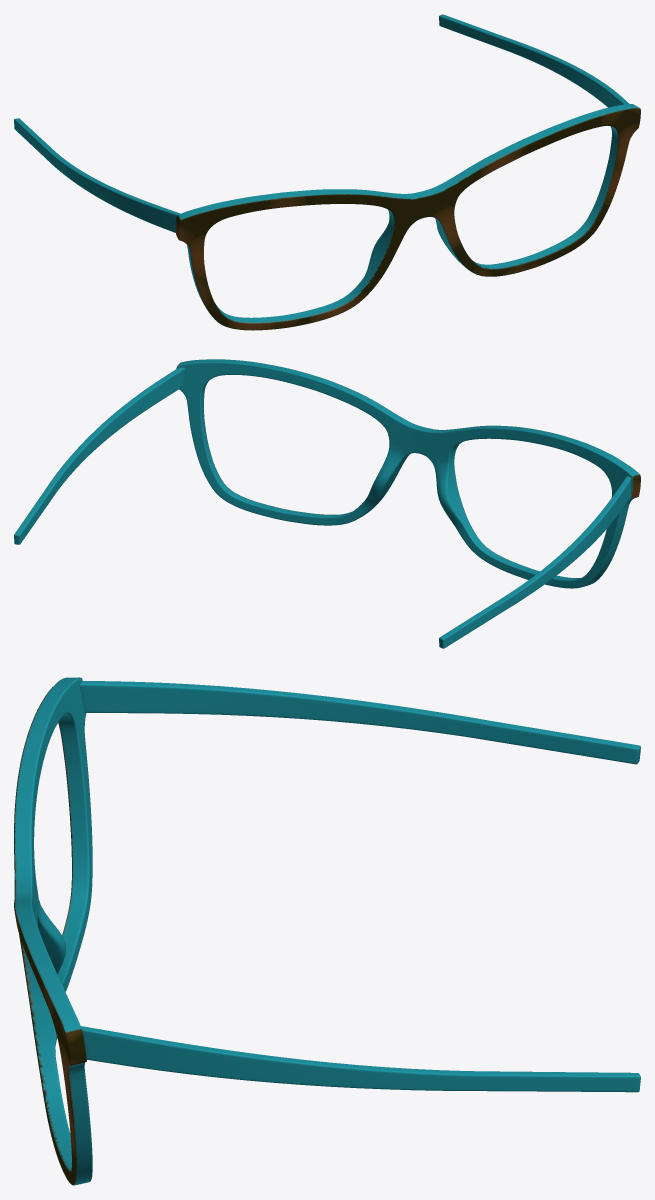
Rendered from RB7108_app_GLB.glb.
3 views of the same model, one above another, from view 1: azimuth 30°, elevation 25°; view 2: azimuth 150°, elevation 25°; view 3: azimuth 270°, elevation 25° (orthographic). The views are drawn at different scales.
Parts seen in each view (by area): view 1: Armacao001; view 2: Armacao001; view 3: Armacao001.
Part boxes in pixels (x1,y1,x2,y2): Armacao001: (14, 14, 640, 330); Armacao001: (14, 359, 640, 648); Armacao001: (14, 677, 640, 1185).
Bounding box in the file's own units: 0.1657 × 0.0469 × 0.1185.
Materials: 2 (2 with a texture image).
